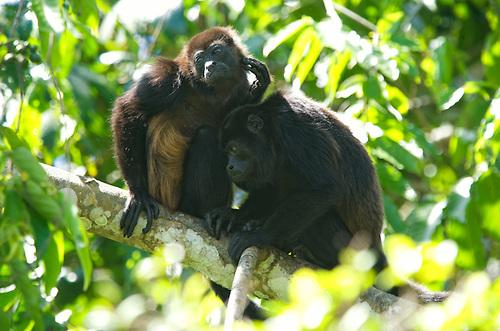monkey: (119, 29, 383, 271)
